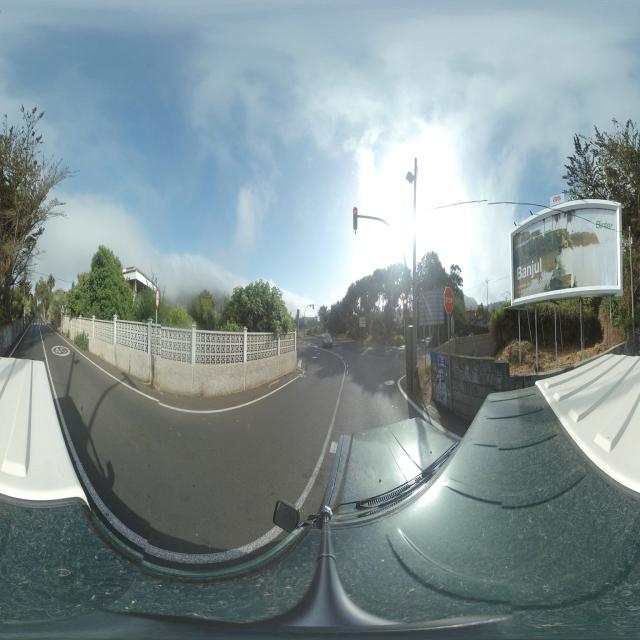car: (322, 332, 333, 348)
